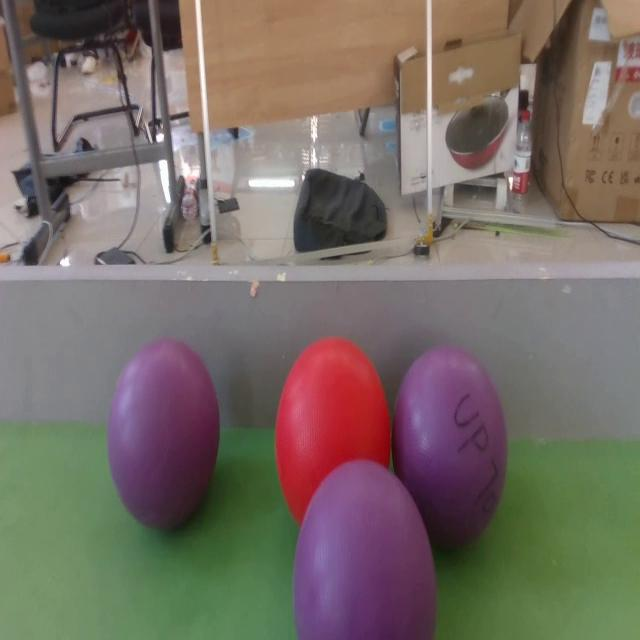invalid: (295, 460, 436, 640), (393, 349, 508, 539), (106, 340, 221, 528)
red: (276, 337, 392, 531)
